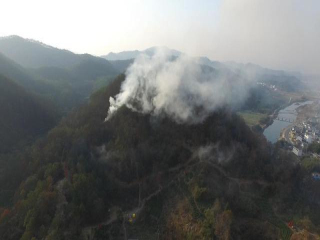smoke: (102, 24, 265, 126)
